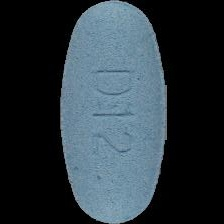0085-1322: (0, 0, 224, 224)
